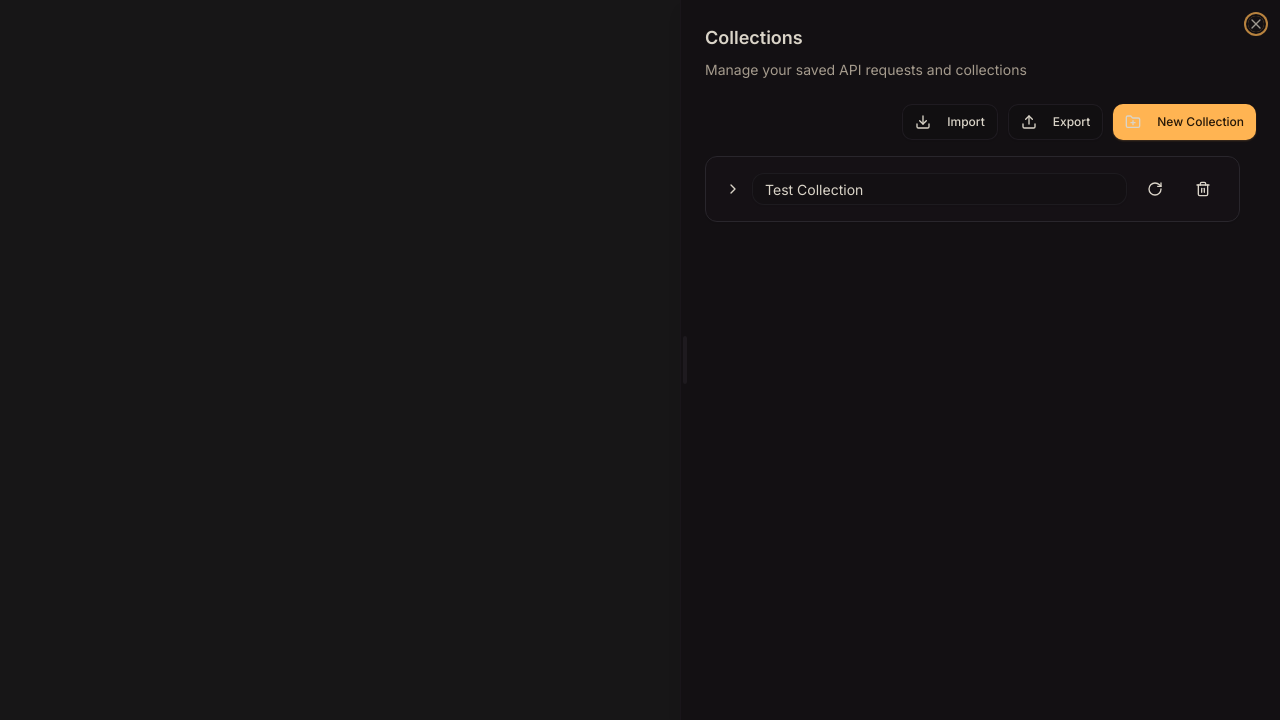
Test: CollectionsPanel OpenAPI Import › surfaces a fetch failure in the dialog instead of failing silently
Click the button "Import". click: (950, 122)
box: [902,104,998,140]
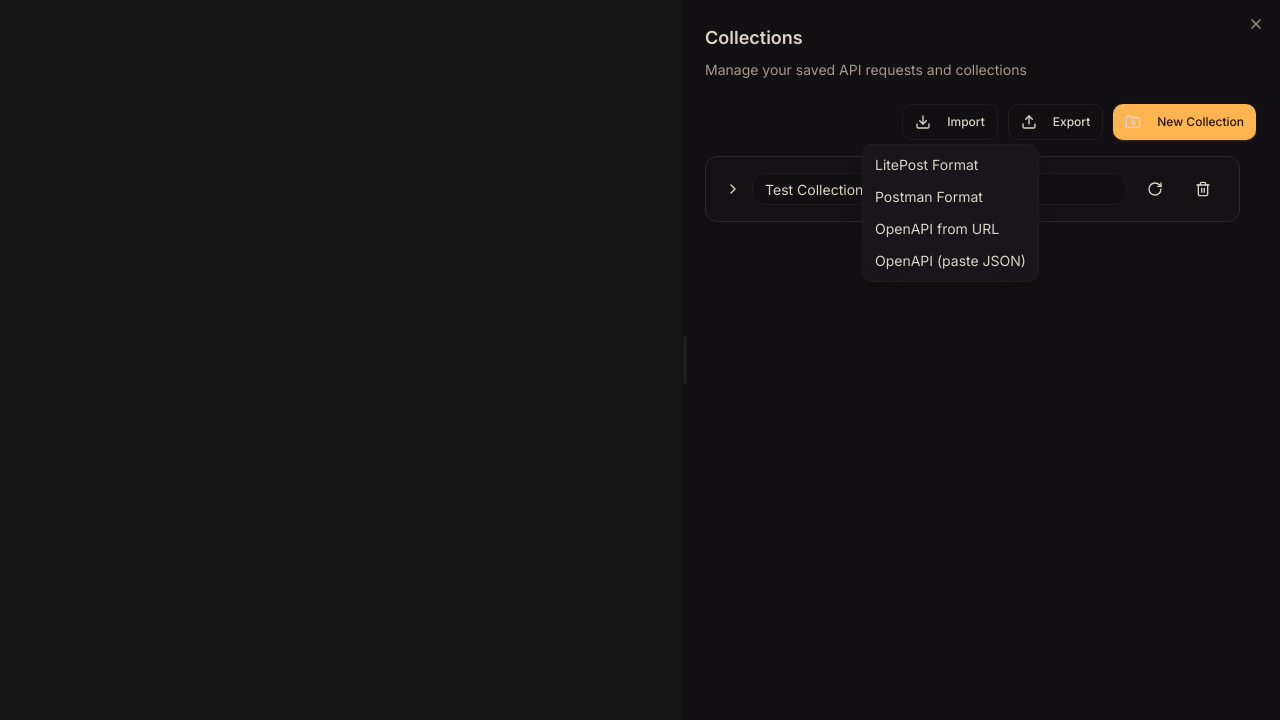
Click the menu item "OpenAPI from URL". click: (937, 228)
box: [875,220,999,237]
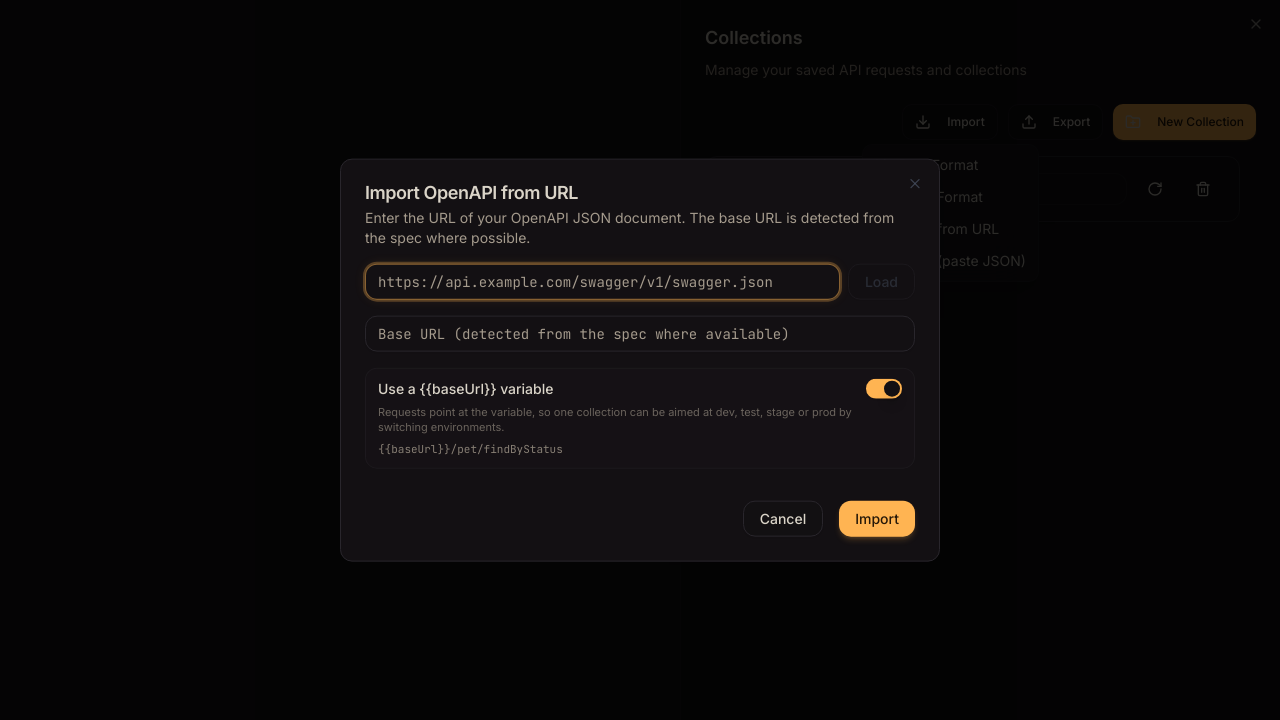
Type "https://internal.corp/swagger/v1/swagger.json" into the field with placeholder "https://api.example.com/swagger/v1/swagger.json". click: (602, 282)
box: [365,264,840,300]
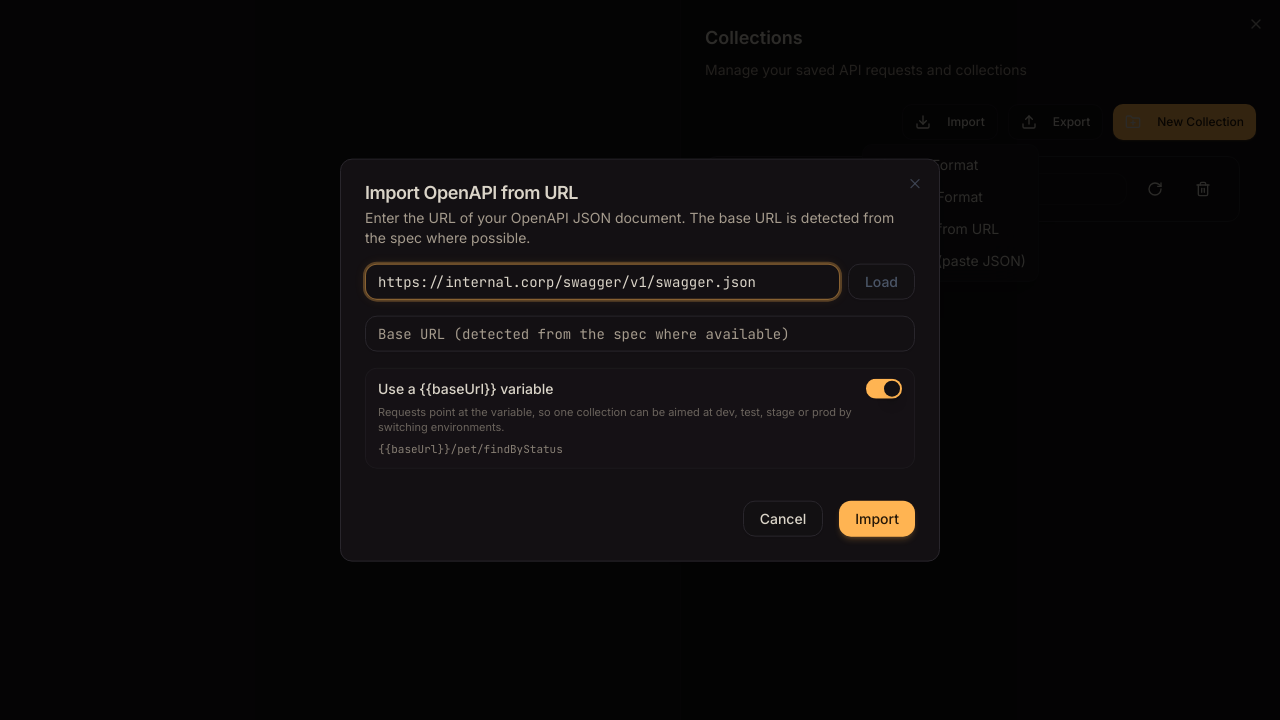
Click the button "Load". click: (881, 282)
box: [848,264,915,300]
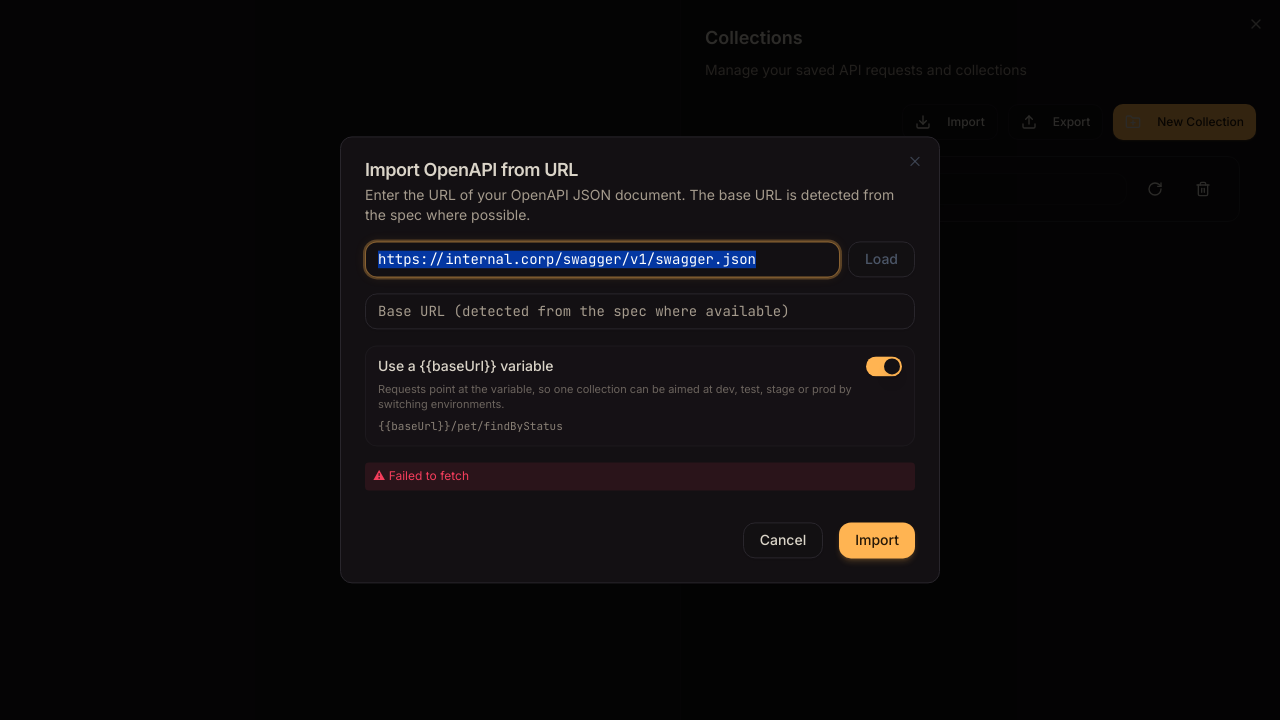
Check: the text "⚠ Failed to fetch" is shown, box [365,462,915,491]
